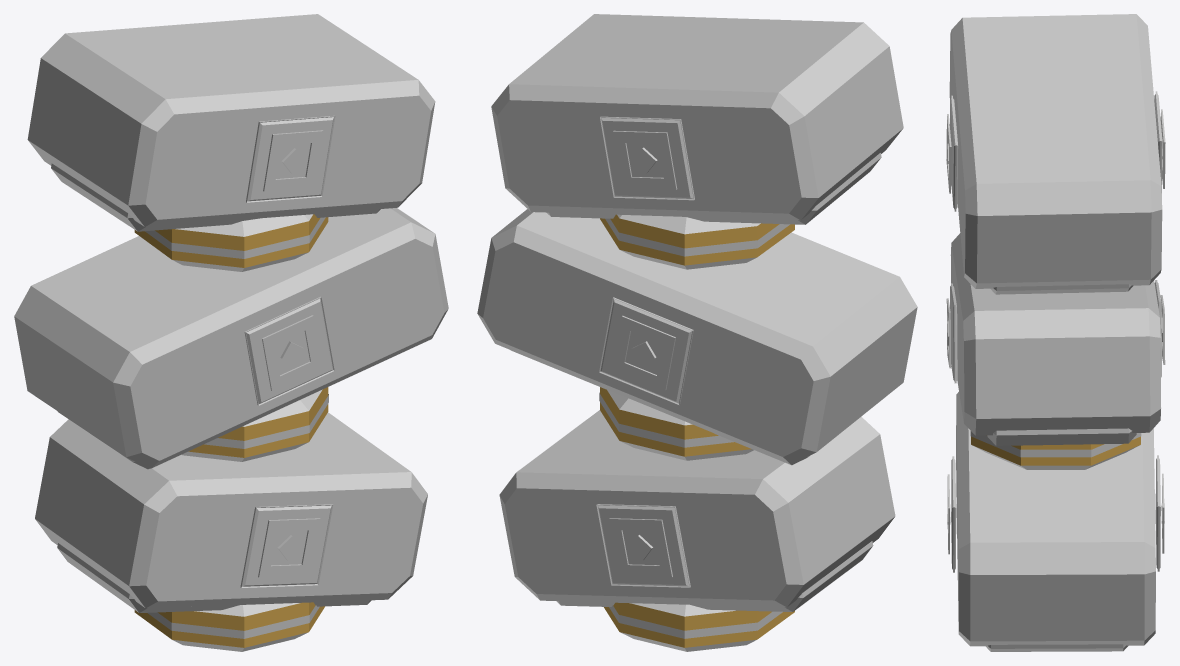
The model's file is wand_motion_01.obj.
3 renders of one model, left to right at view 1: azimuth 30°, elevation 25°; view 2: azimuth 150°, elevation 25°; view 3: azimuth 270°, elevation 25°, orthographic. The views are drawn at different scales.
Visible parts, largest first — view 1: chamfered_seal_tablet_2, chamfered_seal_tablet_1, chamfered_seal_tablet_0, tablet_spacer_2, tablet_spacer_0, inset_rune_socket_1, inset_rune_socket_3, inset_rune_socket_5, tablet_spacer_1, seal_shadow_base_2, seal_shadow_base_0, tablet_spacer_dark_seam_2 (+2 smaller); view 2: chamfered_seal_tablet_2, chamfered_seal_tablet_1, chamfered_seal_tablet_0, tablet_spacer_2, tablet_spacer_0, inset_rune_socket_4, inset_rune_socket_2, inset_rune_socket_0, tablet_spacer_1, seal_shadow_base_0, seal_shadow_base_2, tablet_spacer_dark_seam_2 (+2 smaller); view 3: chamfered_seal_tablet_2, chamfered_seal_tablet_0, chamfered_seal_tablet_1, tablet_spacer_1, seal_shadow_base_1, tablet_spacer_dark_seam_1, seal_shadow_base_2, seal_shadow_base_0, inset_rune_socket_5, inset_rune_socket_3, inset_rune_socket_0, inset_rune_socket_1 (+1 smaller).
Boxes of the visible parts, x1,y1,x2,y2 form: chamfered_seal_tablet_2: (27, 14, 435, 226); chamfered_seal_tablet_1: (14, 208, 448, 468); chamfered_seal_tablet_0: (35, 412, 427, 608); tablet_spacer_2: (134, 214, 328, 271); tablet_spacer_0: (134, 602, 324, 651); inset_rune_socket_1: (240, 504, 333, 587); inset_rune_socket_3: (244, 296, 334, 405); inset_rune_socket_5: (246, 115, 335, 202); tablet_spacer_1: (181, 387, 328, 461); seal_shadow_base_2: (51, 163, 380, 231); seal_shadow_base_0: (57, 543, 371, 612); tablet_spacer_dark_seam_2: (145, 217, 325, 258); chamfered_seal_tablet_2: (491, 14, 903, 220); chamfered_seal_tablet_1: (477, 209, 917, 464); chamfered_seal_tablet_0: (499, 410, 895, 607); tablet_spacer_2: (600, 214, 794, 269); tablet_spacer_0: (604, 602, 794, 651); inset_rune_socket_4: (600, 116, 694, 200); inset_rune_socket_2: (599, 297, 693, 404); inset_rune_socket_0: (596, 504, 690, 587); tablet_spacer_1: (600, 387, 753, 460); seal_shadow_base_0: (556, 541, 873, 611); seal_shadow_base_2: (547, 153, 881, 224); tablet_spacer_dark_seam_2: (605, 218, 789, 256); chamfered_seal_tablet_2: (949, 14, 1162, 288); chamfered_seal_tablet_0: (956, 392, 1155, 646); chamfered_seal_tablet_1: (950, 233, 1161, 435); tablet_spacer_1: (971, 436, 1140, 469); seal_shadow_base_1: (987, 428, 1136, 445); tablet_spacer_dark_seam_1: (970, 431, 1141, 457); seal_shadow_base_2: (990, 284, 1133, 294); seal_shadow_base_0: (986, 644, 1128, 651); inset_rune_socket_5: (949, 95, 958, 211); inset_rune_socket_3: (950, 283, 957, 383); inset_rune_socket_0: (1155, 455, 1160, 571); inset_rune_socket_1: (951, 456, 956, 572).
Bounding box in the file's own units: 0.1987 × 0.317 × 0.1147.
